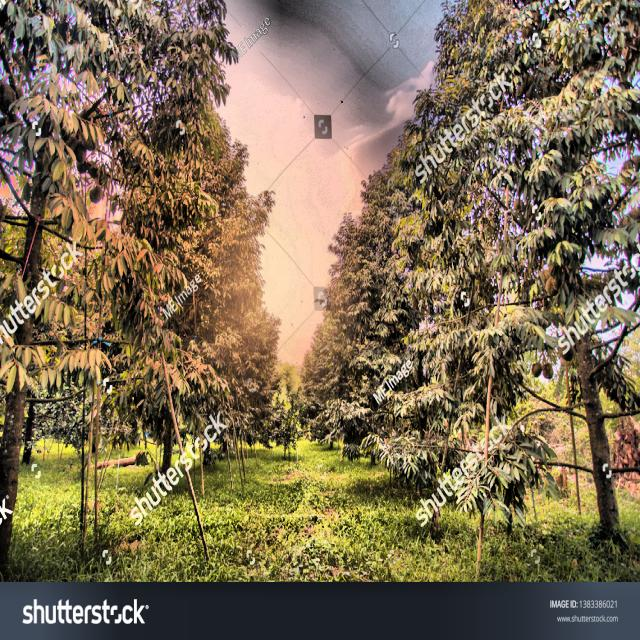arvore: (0, 86, 74, 570), (557, 260, 640, 564), (153, 372, 179, 498)
